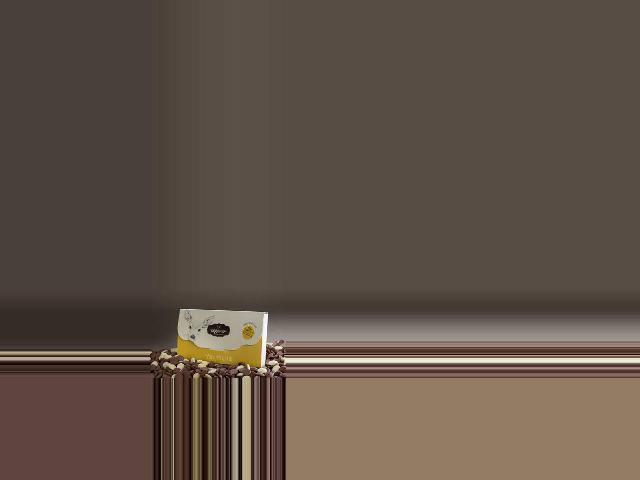chocolate: (171, 305, 272, 370)
